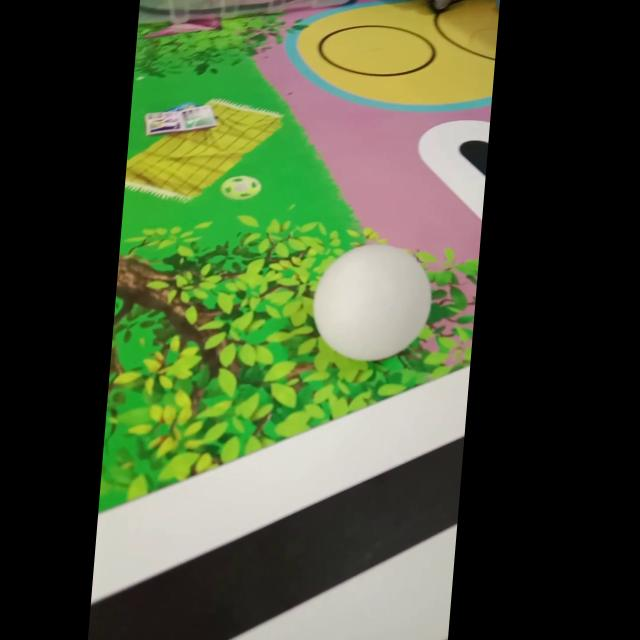white ball: (307, 242, 436, 362)
